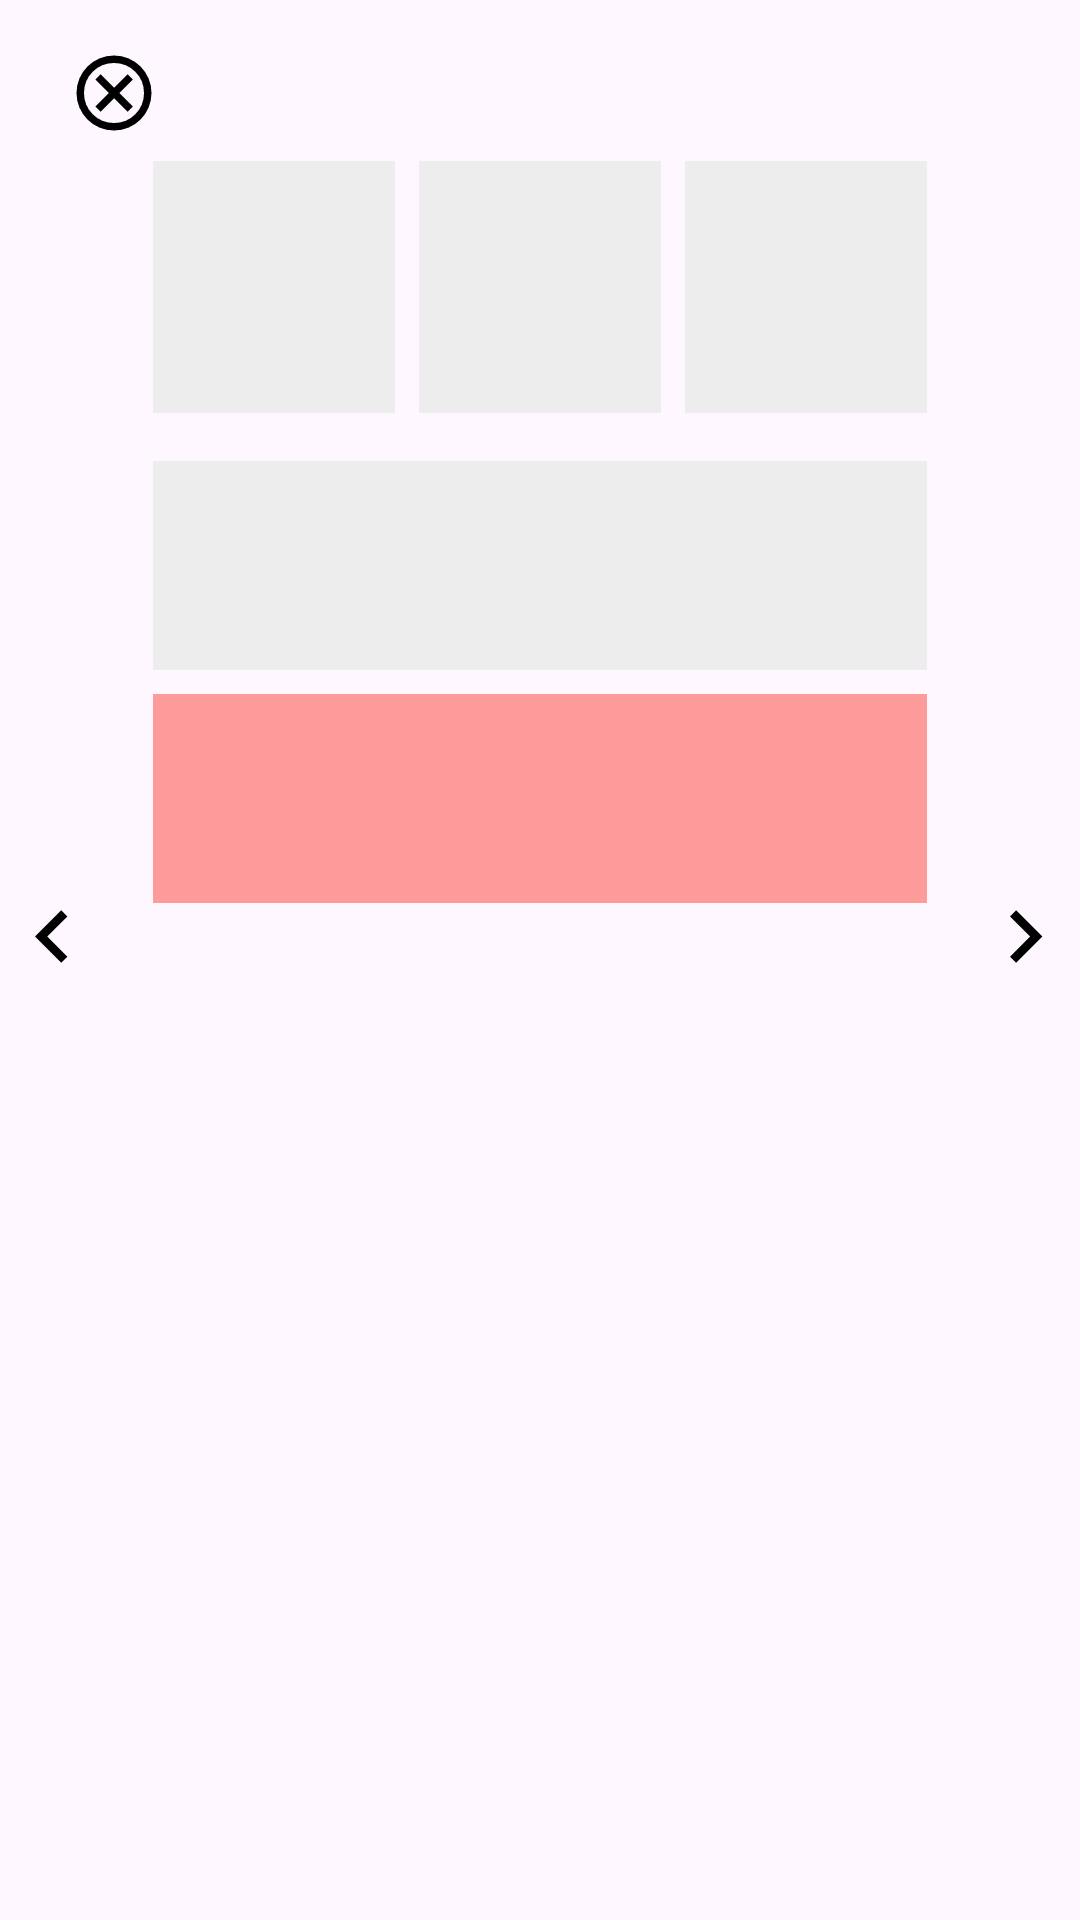

Where icons sit on this 1080 x 1920 app screen, as (x1, y1, x2, y2):
cancel: (76, 55, 152, 131)
left arrow: (35, 910, 68, 963)
right arrow: (1010, 910, 1043, 963)
